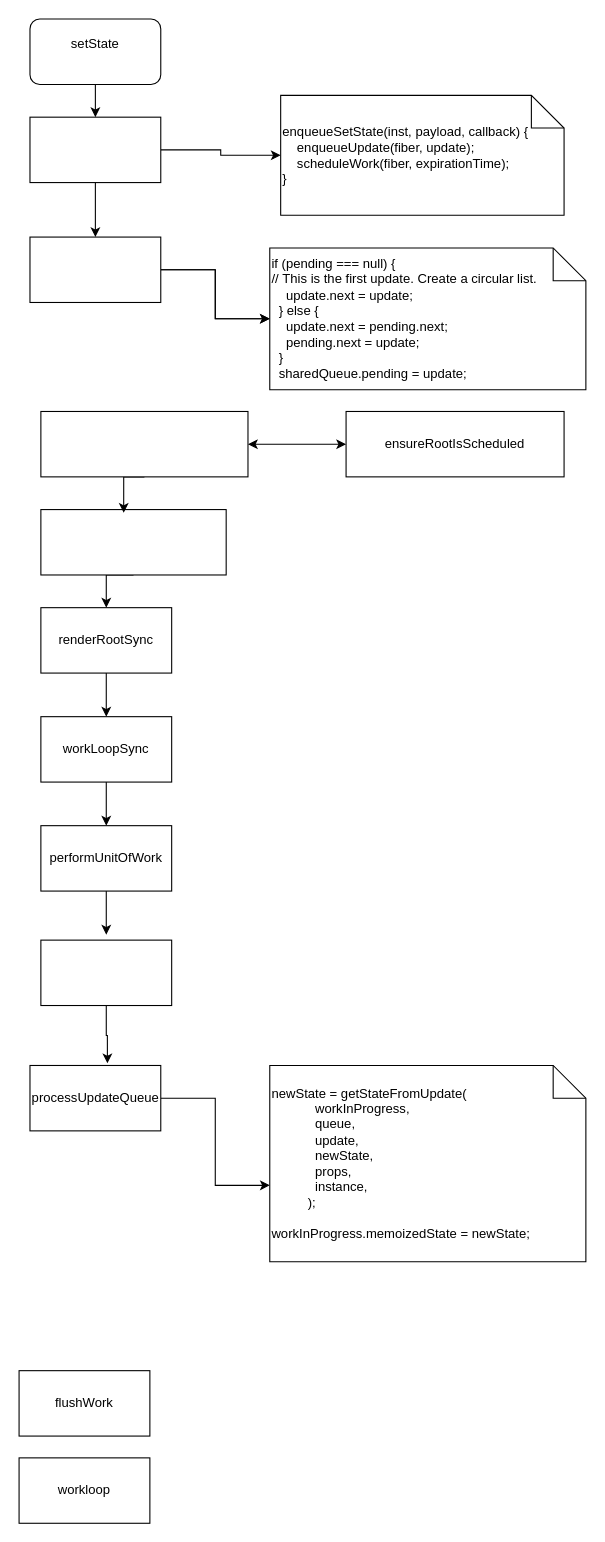
Image size: 605x1542. Some labels were removed from this diagram. The shapes that lost their labels are listed below. From the top down, each one's centre as x and y in pixels, then its label:
At pixel 95 149: "enqueueSetState".
At pixel 95 269: "enqueueUpdate".
At pixel 144 443: "scheduleUpdateOnFiber".
At pixel 133 541: "performSyncWorkOnRoot".
At pixel 106 972: "beginWork".
